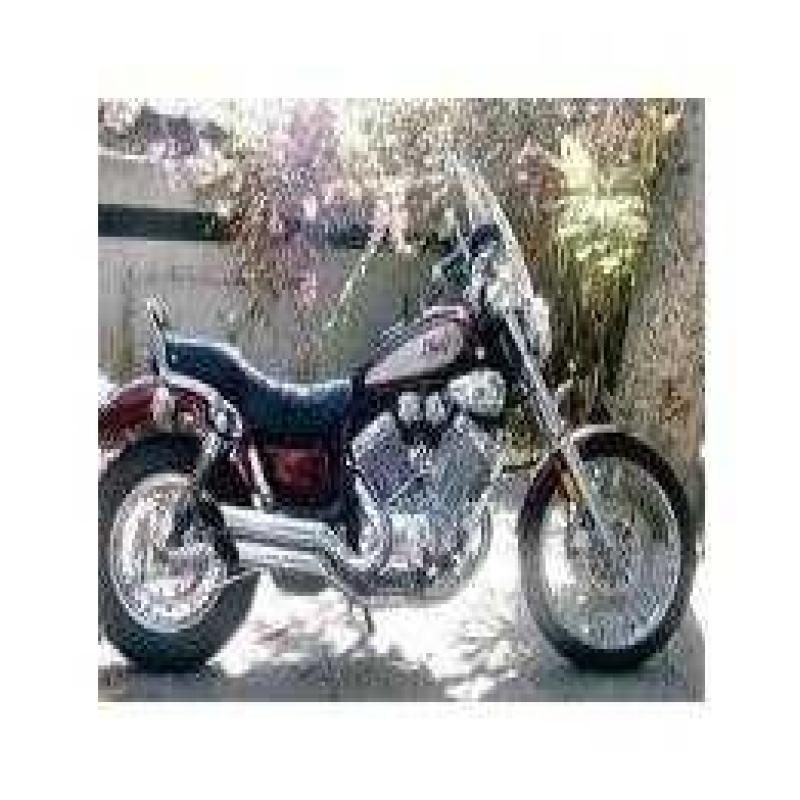bike: (101, 143, 694, 681)
